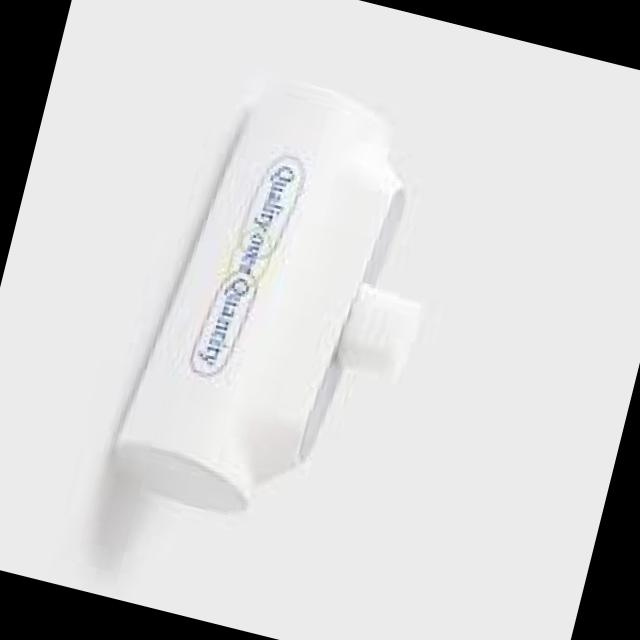power_bank: (91, 51, 470, 550)
